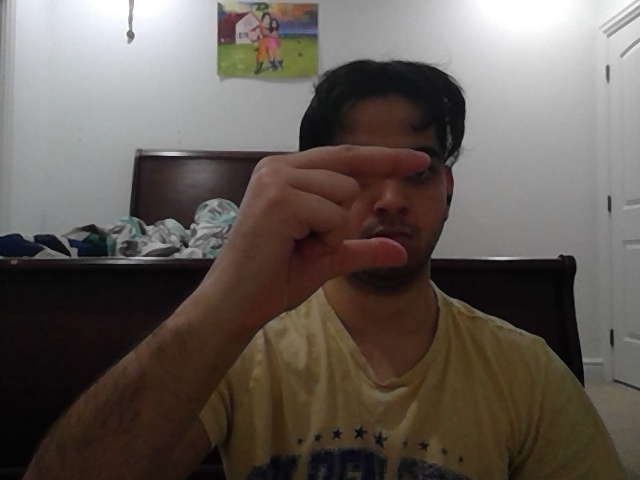No: (227, 144, 428, 312)
